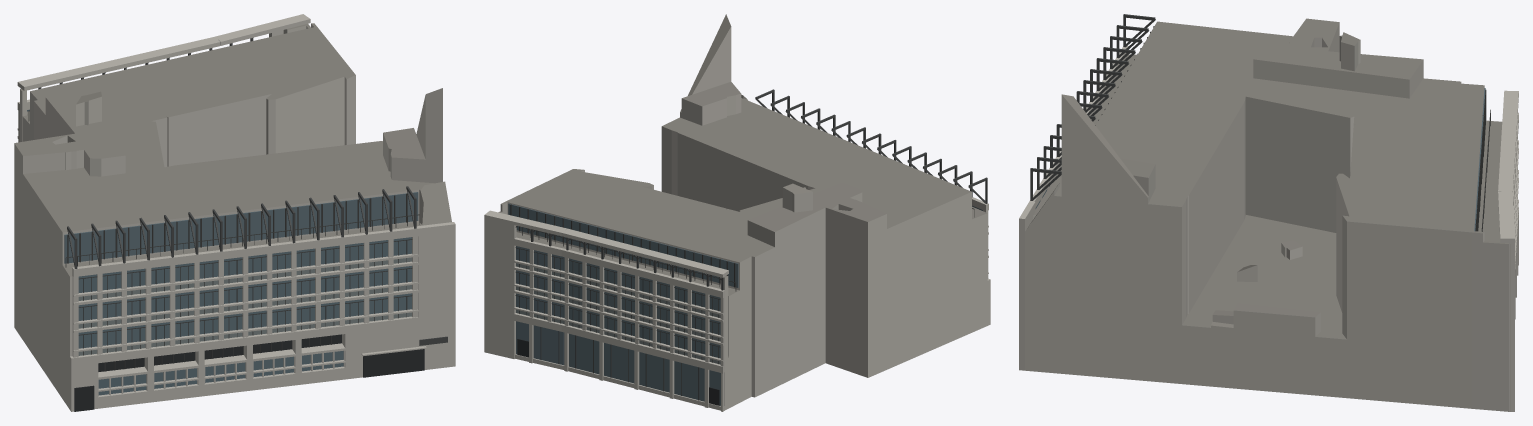
File: spaarbank-singel-548.glb
3 views of the same model, side by side, from view 1: azimuth 30°, elevation 25°; view 2: azimuth 150°, elevation 25°; view 3: azimuth 270°, elevation 25° (orthographic). The views are drawn at different scales.
Parts seen in each view (by area): view 1: spaarbank-singel-548; view 2: spaarbank-singel-548; view 3: spaarbank-singel-548.
Part boxes in pixels (<box>): spaarbank-singel-548: <box>14,14,455,411</box>; spaarbank-singel-548: <box>484,14,990,411</box>; spaarbank-singel-548: <box>1019,14,1518,411</box>.
Bounding box in the file's own units: 53.51 × 32.26 × 52.29.
